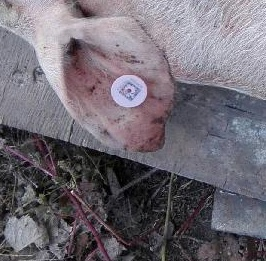text: (96, 66, 154, 123)
